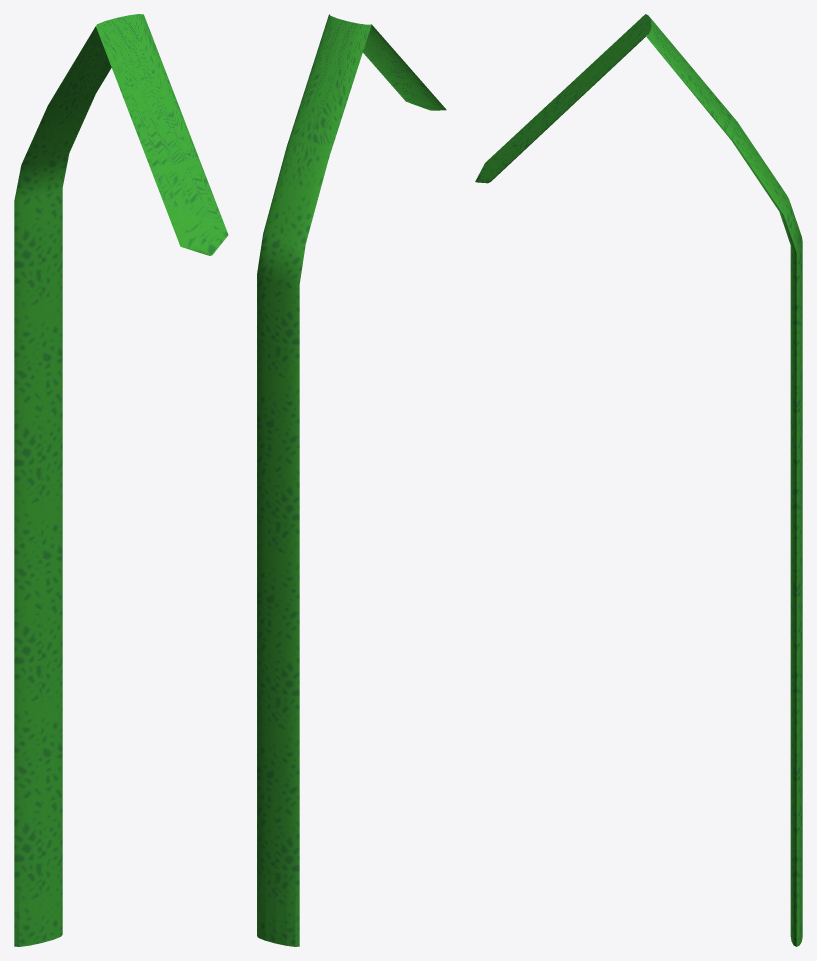
File: grass-1.fbx
3 renders of one model, left to right at view 1: azimuth 30°, elevation 25°; view 2: azimuth 150°, elevation 25°; view 3: azimuth 270°, elevation 25°, orthographic. The views are drawn at different scales.
Parts seen in each view (by area): view 1: pCylinder1; view 2: pCylinder1; view 3: pCylinder1.
Part boxes in pixels (x1=…): pCylinder1: x1=14, y1=14, x2=228, y2=946; pCylinder1: x1=257, y1=14, x2=446, y2=946; pCylinder1: x1=475, y1=14, x2=802, y2=946.
Bounding box in the file's own units: 1.02 × 19.91 × 6.49.
1 material, 1 textured.
